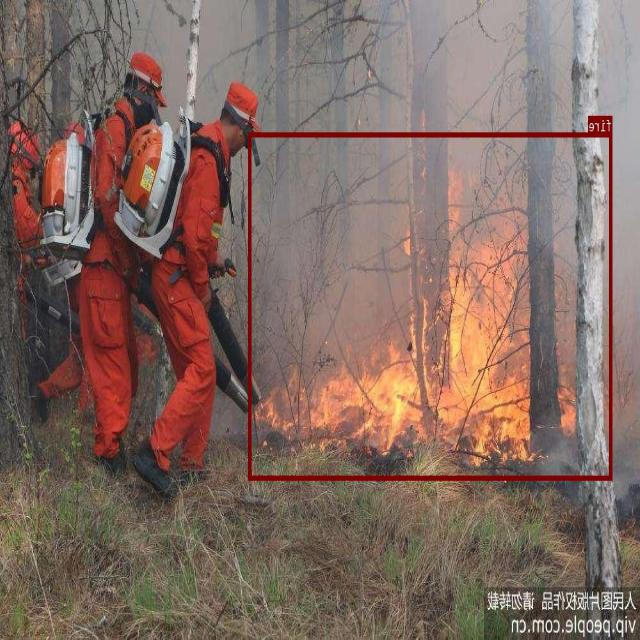fire: (249, 132, 613, 479)
